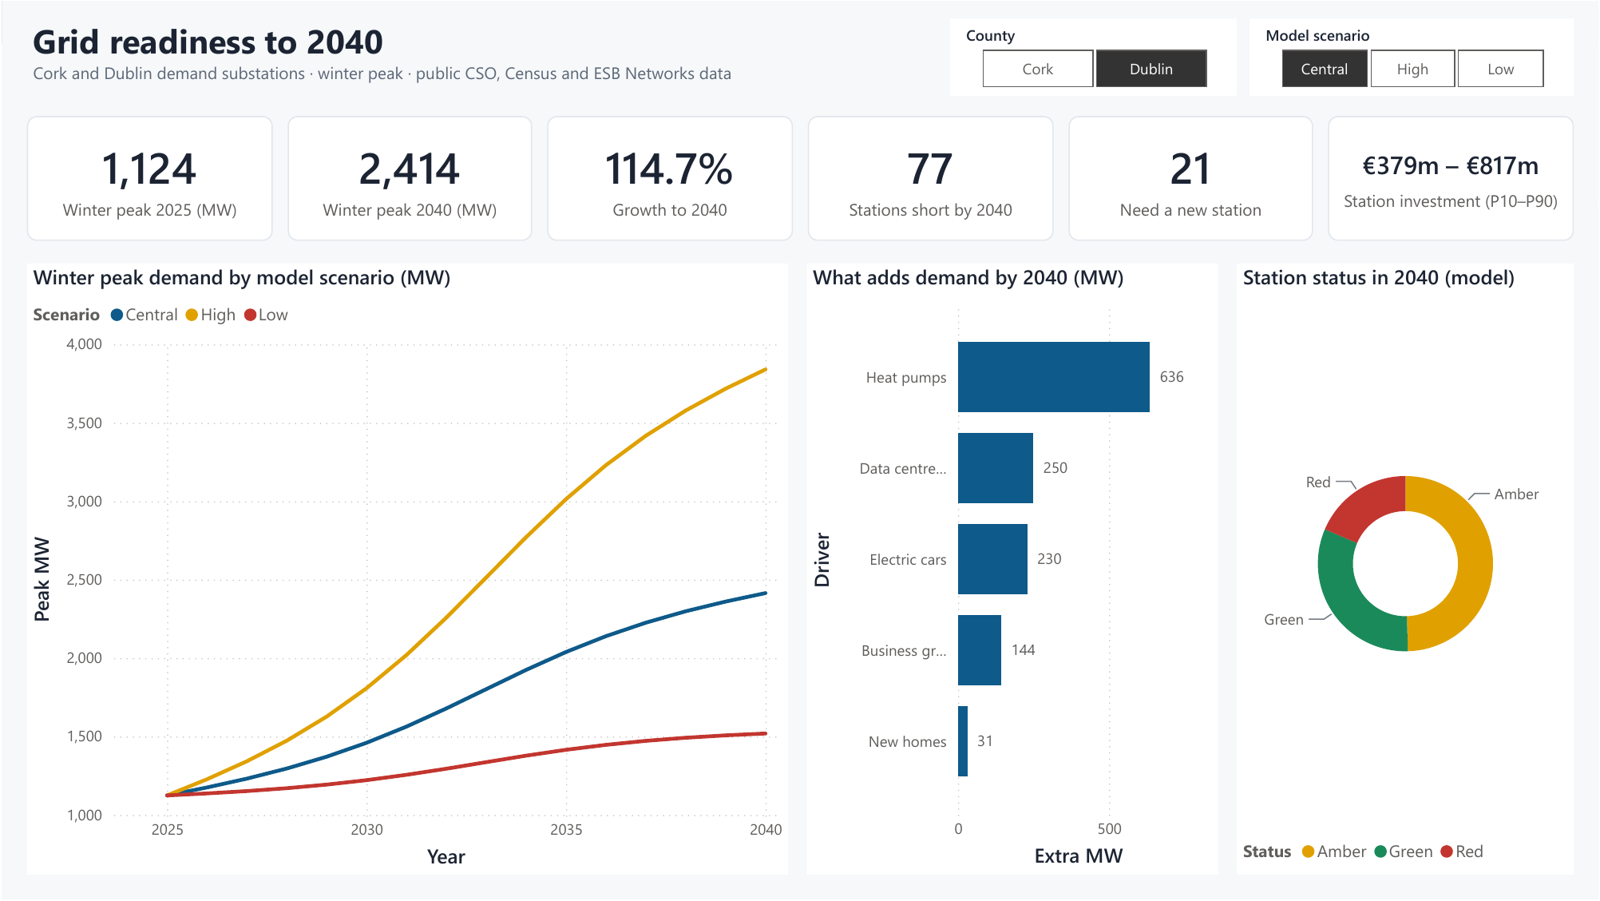

This screenshot's page, from the dashboard's own definition file:
{"tool":"powerbi","page":{"name":"Overview","canvas":[1280,720],"ordinal":0},"visuals":[{"type":"textbox","box":[20,8,720,76],"z":1000},{"type":"slicer","fields":{"Values":["dim_county.County"]},"box":[760,14,230,62],"z":2000},{"type":"slicer","fields":{"Values":["fact_demand.Scenario"]},"box":[1000,14,260,62],"z":3000},{"type":"card","fields":{"Values":["_Measures.Peak 2025 MW"]},"box":[20,92,196.7,100],"z":4000},{"type":"card","fields":{"Values":["_Measures.Peak 2040 MW"]},"box":[228.7,92,196.7,100],"z":5000},{"type":"card","fields":{"Values":["_Measures.Peak Growth %"]},"box":[437.3,92,196.7,100],"z":6000},{"type":"card","fields":{"Values":["_Measures.Stations Short 2040"]},"box":[646,92,196.7,100],"z":7000},{"type":"card","fields":{"Values":["_Measures.New Stations Needed"]},"box":[854.7,92,196.7,100],"z":8000},{"type":"card","fields":{"Values":["_Measures.Cost Range"]},"box":[1063.3,92,196.7,100],"z":9000},{"type":"lineChart","title":"Winter peak demand by model scenario (MW)","fields":{"Category":["dim_year.Year"],"Series":["fact_demand.Scenario"],"Y":["_Measures.Peak MW"]},"box":[20,210,610,490],"z":10000},{"type":"clusteredBarChart","title":"What adds demand by 2040 (MW)","fields":{"Category":["fact_demand.Driver"],"Y":["_Measures.Extra Demand MW"]},"box":[645,210,330,490],"z":11000},{"type":"donutChart","title":"Station status in 2040 (model)","fields":{"Category":["dim_station.Status2040"],"Y":["_Measures.Stations"]},"box":[990,210,270,490],"z":12000}]}

Visuals, with their boxes in screenshot pixels (x1, y1, x2, y2), scaled from the page's 1280x720 canvas onto the 1600x901 screenshot:
textbox: {"left": 25, "top": 10, "right": 925, "bottom": 105}
slicer - dim_county.County: {"left": 950, "top": 18, "right": 1238, "bottom": 95}
slicer - fact_demand.Scenario: {"left": 1250, "top": 18, "right": 1575, "bottom": 95}
card - _Measures.Peak 2025 MW: {"left": 25, "top": 115, "right": 271, "bottom": 240}
card - _Measures.Peak 2040 MW: {"left": 286, "top": 115, "right": 532, "bottom": 240}
card - _Measures.Peak Growth %: {"left": 547, "top": 115, "right": 792, "bottom": 240}
card - _Measures.Stations Short 2040: {"left": 808, "top": 115, "right": 1053, "bottom": 240}
card - _Measures.New Stations Needed: {"left": 1068, "top": 115, "right": 1314, "bottom": 240}
card - _Measures.Cost Range: {"left": 1329, "top": 115, "right": 1575, "bottom": 240}
"Winter peak demand by model scenario (MW)" lineChart: {"left": 25, "top": 263, "right": 788, "bottom": 876}
"What adds demand by 2040 (MW)" clusteredBarChart: {"left": 806, "top": 263, "right": 1219, "bottom": 876}
"Station status in 2040 (model)" donutChart: {"left": 1238, "top": 263, "right": 1575, "bottom": 876}
